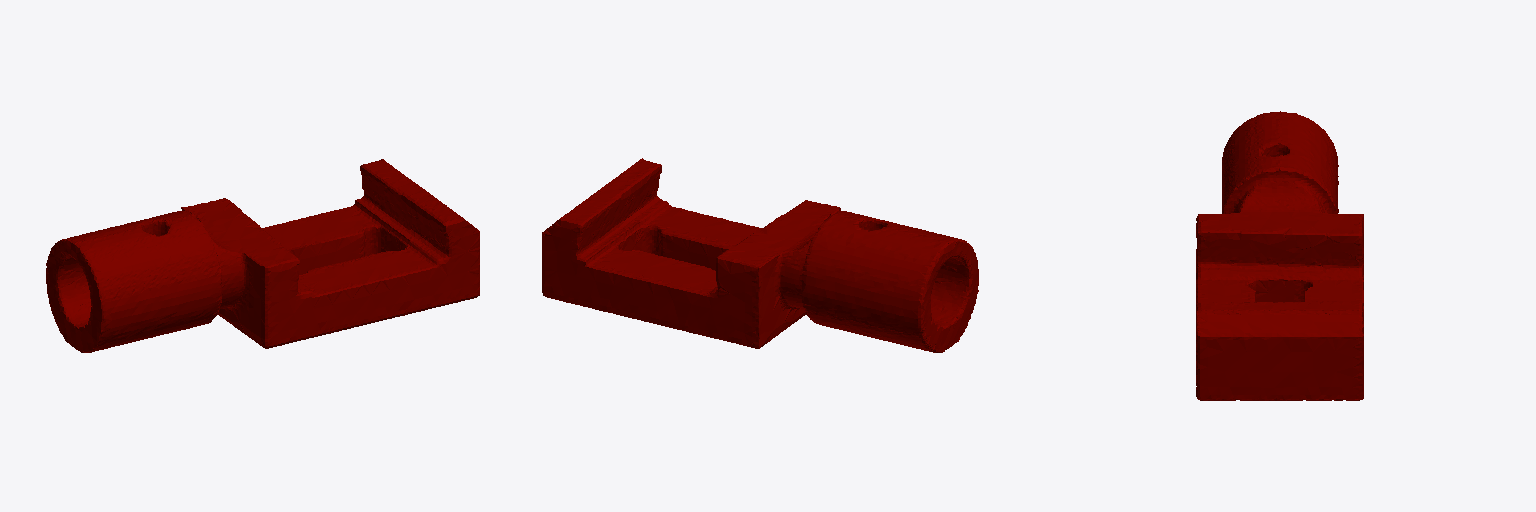
The model's file is crosse.obj.
The picture shows the model from 3 angles: view 1: azimuth 30°, elevation 25°; view 2: azimuth 150°, elevation 25°; view 3: azimuth 270°, elevation 25°; orthographic projection.
Visible parts, largest first — view 1: crosse_remaille_defaut; view 2: crosse_remaille_defaut; view 3: crosse_remaille_defaut.
Boxes of the visible parts, box(x1,y1,x2,y2) form: crosse_remaille_defaut: box(46, 159, 479, 352); crosse_remaille_defaut: box(542, 158, 978, 352); crosse_remaille_defaut: box(1196, 111, 1363, 400).
Size of the model in its own units: 153 by 45.29 by 60.3.